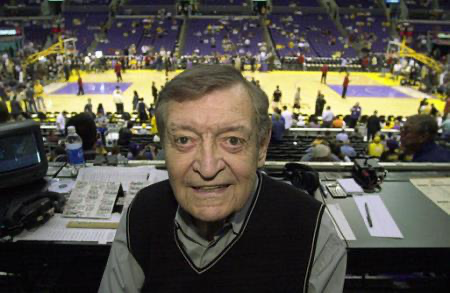Face: (154, 89, 271, 223)
